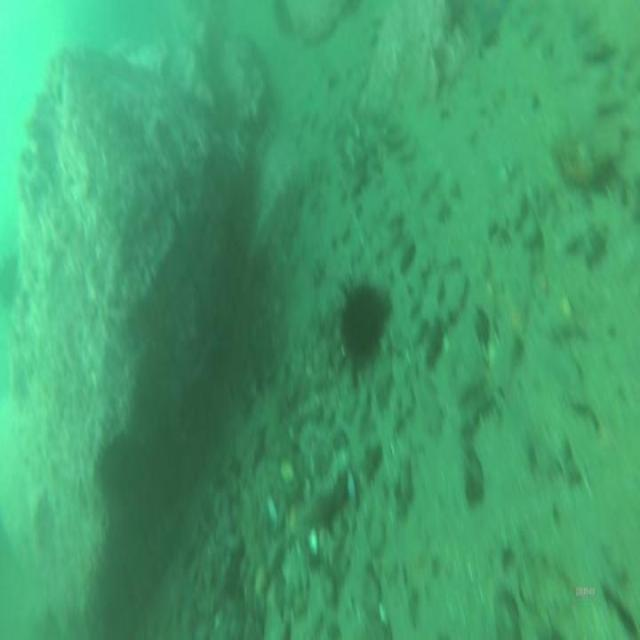echinus: (343, 291, 384, 360)
